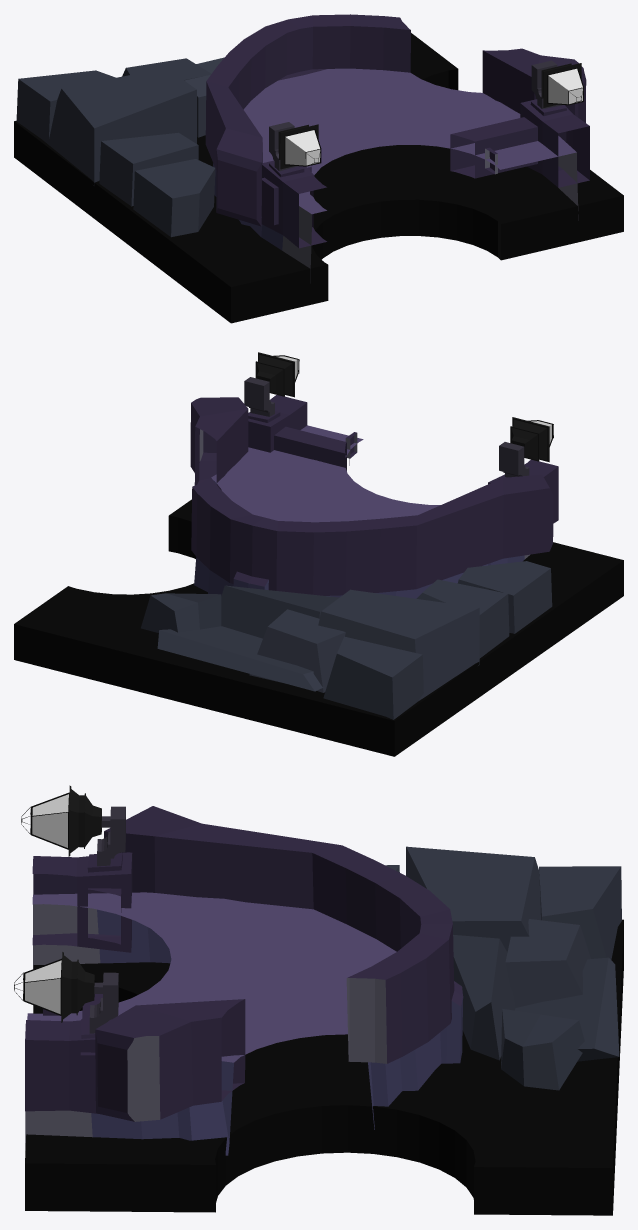
File: peça 1.fbx
The picture shows the model from 3 angles, top to bottom: view 1: azimuth 30°, elevation 25°; view 2: azimuth 150°, elevation 25°; view 3: azimuth 270°, elevation 25°; orthographic projection. The views are drawn at different scales.
Visible parts, largest first — view 1: casa peça 1, peça1, Cube.039; view 2: casa peça 1, Cube.039, peça1; view 3: casa peça 1, peça1, Cube.039.
Boxes of the visible parts, bbox=[...] form: casa peça 1: bbox=[205, 14, 589, 283]; peça1: bbox=[14, 33, 623, 323]; Cube.039: bbox=[16, 57, 224, 237]; casa peça 1: bbox=[190, 352, 558, 598]; Cube.039: bbox=[141, 561, 552, 719]; peça1: bbox=[14, 499, 623, 756]; casa peça 1: bbox=[14, 785, 463, 1155]; peça1: bbox=[25, 919, 623, 1215]; Cube.039: bbox=[385, 846, 621, 1090].
Bounding box in the file's own units: 1143 × 457 × 1164.
